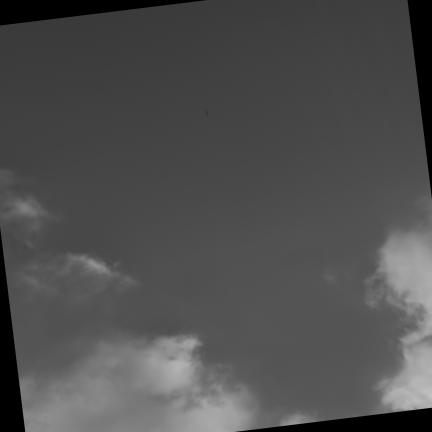Shahed: (204, 109, 209, 116)
